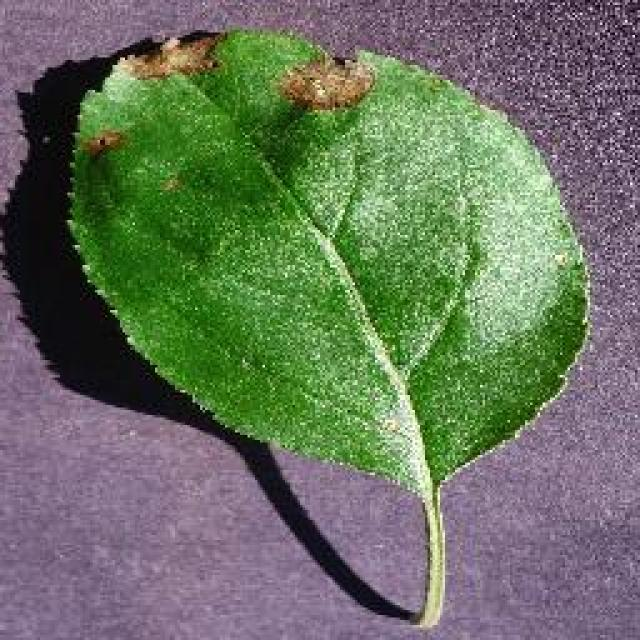Apple___Black_rot: (50, 8, 440, 226)
